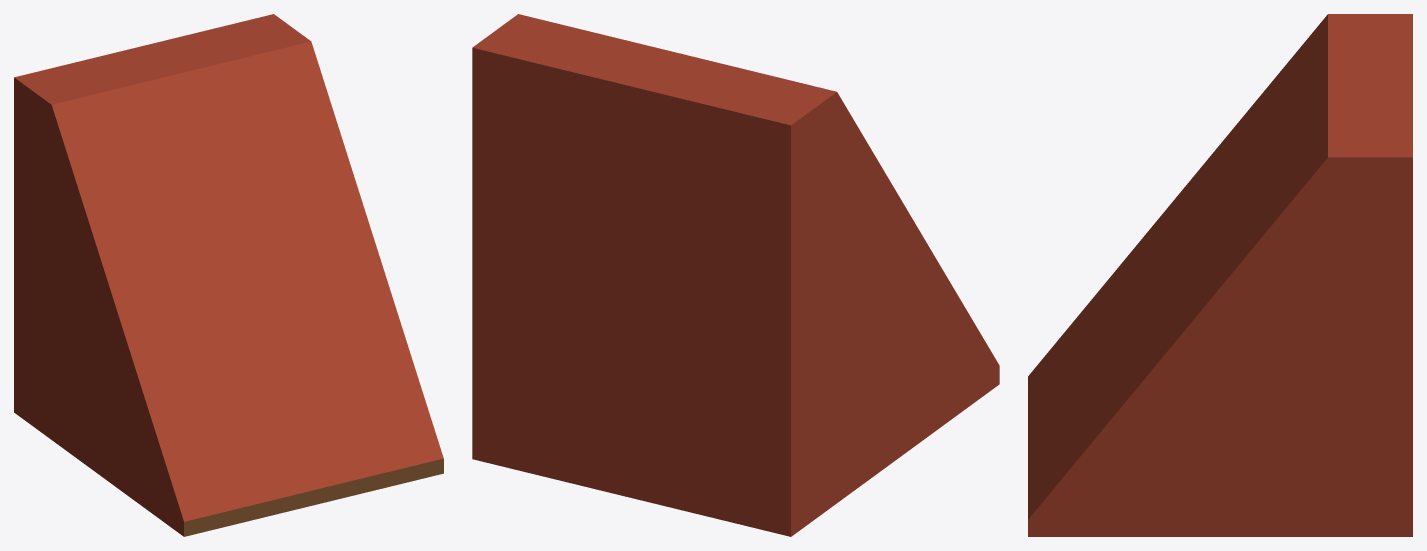
Rendered from Dach_Skos.fbx.
3 renders of one model, left to right at view 1: azimuth 30°, elevation 25°; view 2: azimuth 150°, elevation 25°; view 3: azimuth 270°, elevation 25°, orthographic. The views are drawn at different scales.
Parts seen in each view (by area): view 1: Dach_Skos; view 2: Dach_Skos; view 3: Dach_Skos.
Boxes of the visible parts, <box> form: Dach_Skos: <box>14,14,443,536</box>; Dach_Skos: <box>472,14,999,536</box>; Dach_Skos: <box>1028,14,1412,536</box>.
Bounding box in the file's own units: 3 × 3.7 × 3.4.
